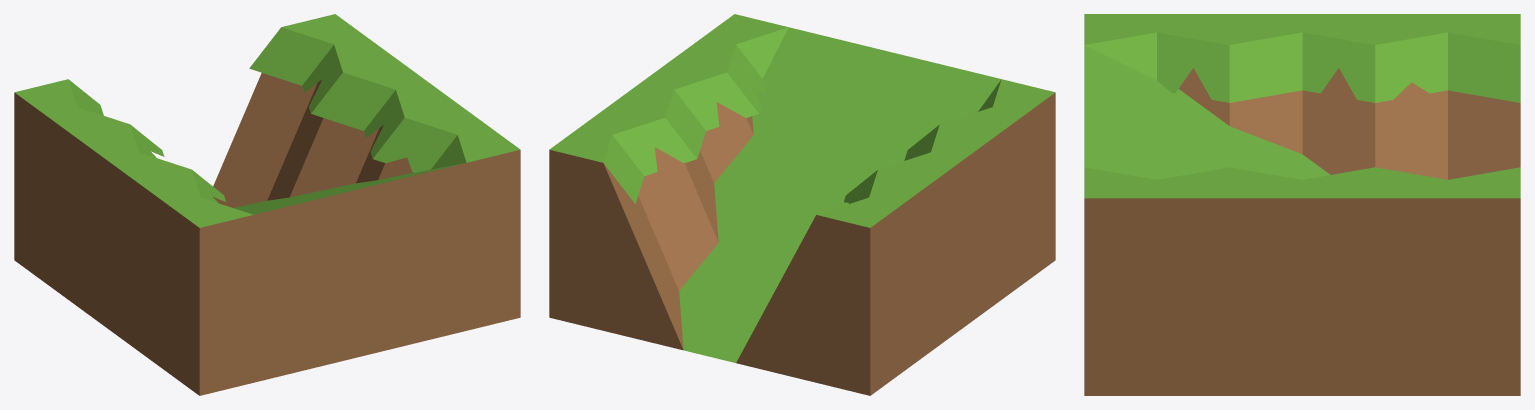
The model's file is cliff_blockSlopeHalfWalls_rock.glb.
3 renders of one model, left to right at view 1: azimuth 30°, elevation 25°; view 2: azimuth 150°, elevation 25°; view 3: azimuth 270°, elevation 25°, orthographic. The views are drawn at different scales.
Parts seen in each view (by area): view 1: cliff_blockSlopeHalfWalls_rock; view 2: cliff_blockSlopeHalfWalls_rock; view 3: cliff_blockSlopeHalfWalls_rock.
Part boxes in pixels (box(x1,y1,x2,y2)): cliff_blockSlopeHalfWalls_rock: box(14, 14, 520, 395); cliff_blockSlopeHalfWalls_rock: box(549, 14, 1055, 395); cliff_blockSlopeHalfWalls_rock: box(1084, 14, 1520, 395).
Size of the model in its own units: 1 by 0.5 by 1.
